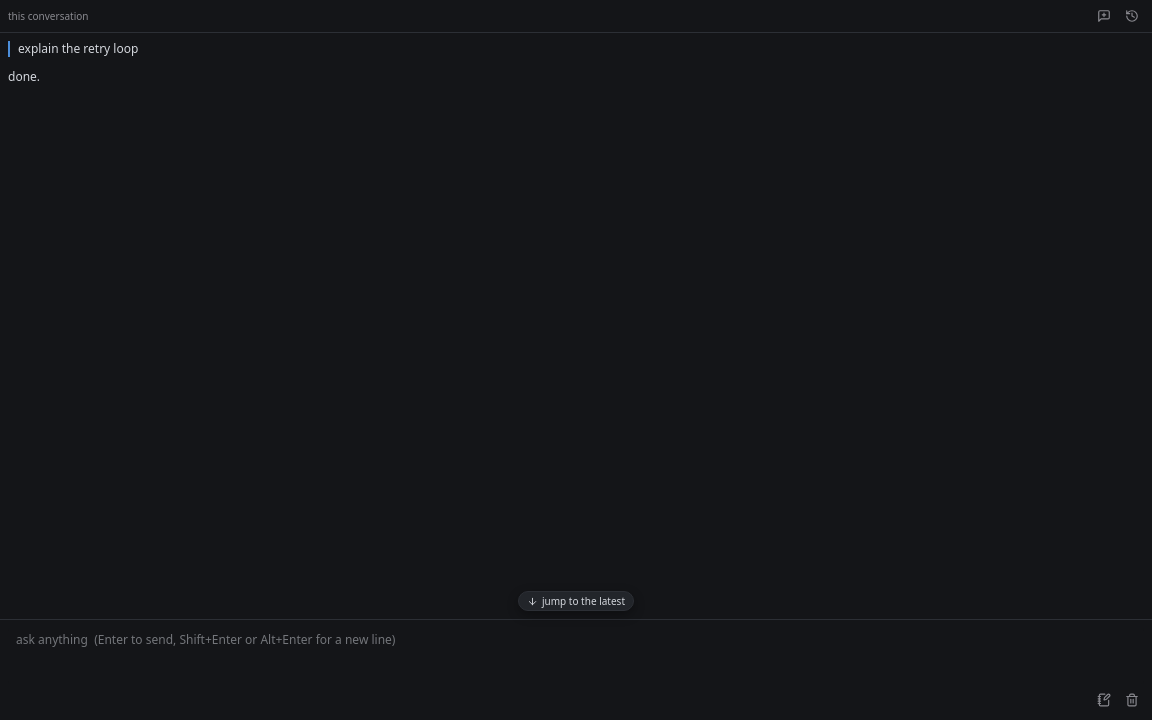
reading while it answers › asking the next question follows its answer, wherever you had scrolled to
(page scrolled)
Replace the text in the text box named "ask the model" with "and the backoff?" at {"x": 576, "y": 656}, box left=8, top=628, right=1144, bottom=684
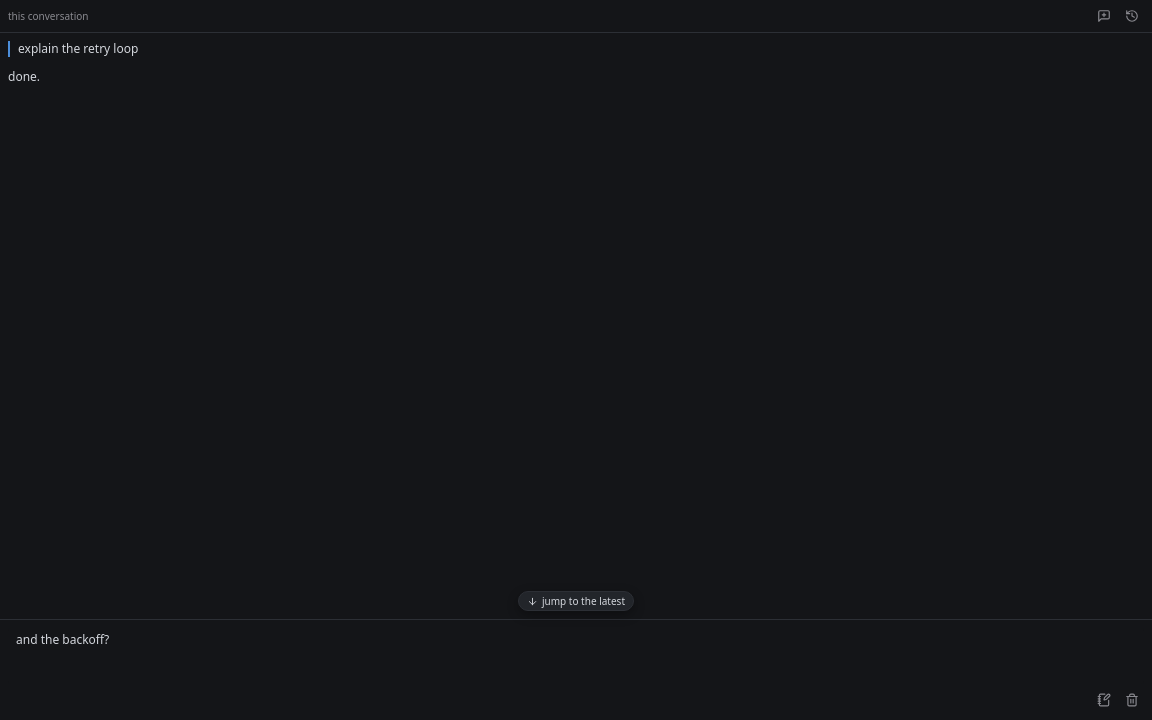
Press Enter in the text box named "ask the model", box left=8, top=628, right=1144, bottom=684
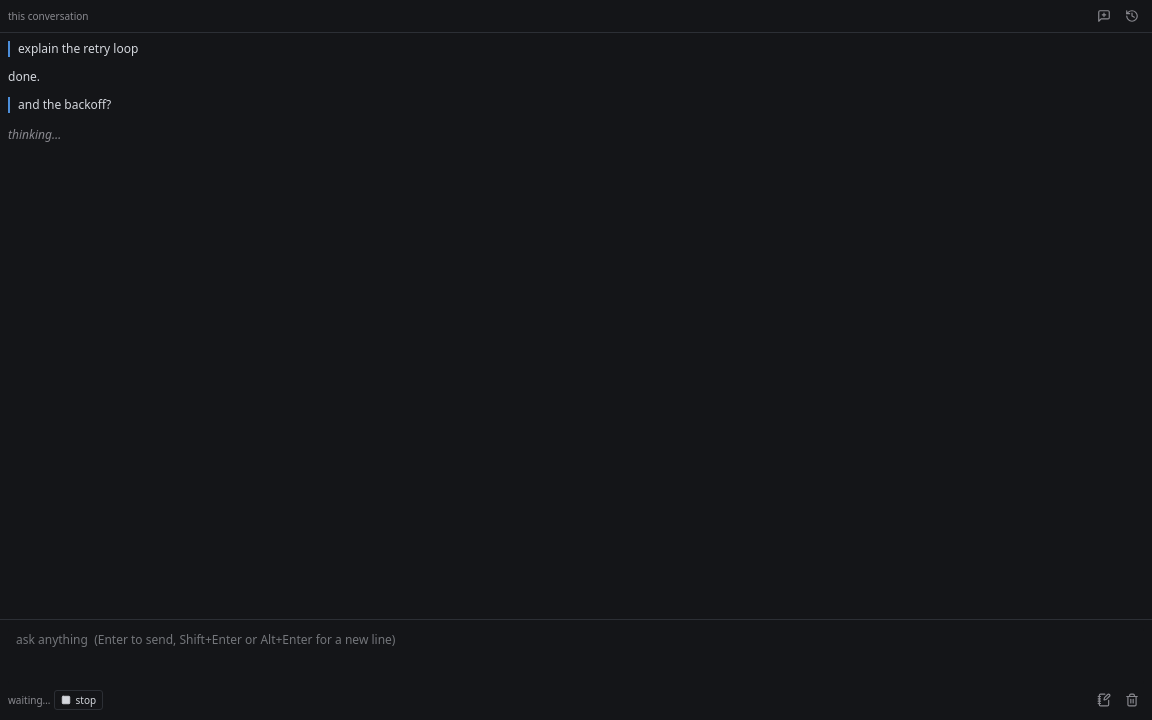
Now the button "jump to the latest" is gone
